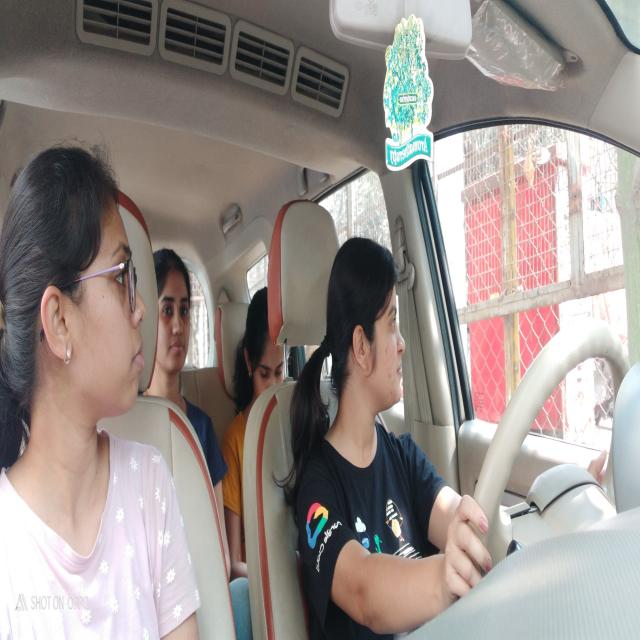LeftRight: (332, 228, 411, 470)
person: (1, 146, 157, 451), (239, 286, 294, 403), (154, 246, 196, 390)
